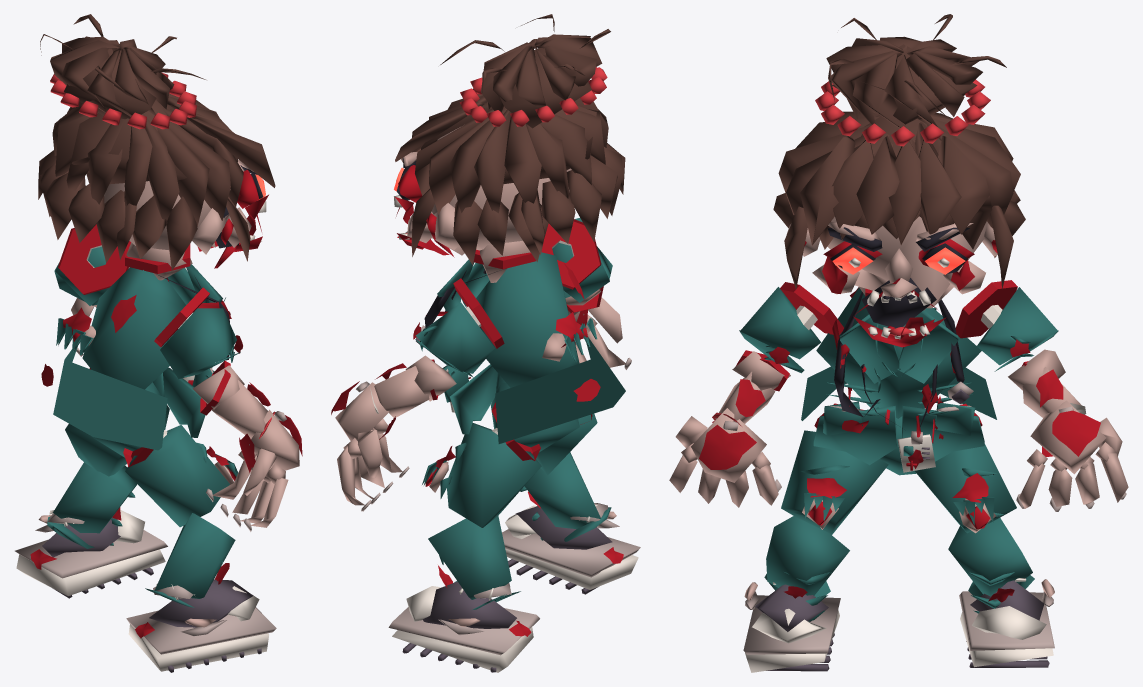
3 views of the same model, side by side, from view 1: azimuth 30°, elevation 25°; view 2: azimuth 150°, elevation 25°; view 3: azimuth 270°, elevation 25° (orthographic). The views are drawn at different scales.
Parts seen in each view (by area): view 1: head, torso, footR, footL, legR, handR, armR, shinR, shinL, stump_armL, foreArmR, legL (+5 smaller); view 2: head, torso, footL, footR, legL, handL, shinL, armL, shinR, stump_armR, foreArmL, handR (+6 smaller); view 3: head, torso, handL, footR, footL, handR, legR, legL, shinR, armR, armL, shinL (+4 smaller).
Boxes of the visible parts, x1,y1,x2,y2 form: head: (38, 14, 275, 280); torso: (41, 264, 231, 450); footR: (126, 579, 276, 672); footL: (15, 510, 167, 598); legR: (125, 425, 237, 527); handR: (206, 409, 302, 531); armR: (160, 308, 244, 409); shinR: (145, 513, 235, 607); shinL: (47, 462, 137, 548); stump_armL: (58, 224, 128, 294); foreArmR: (212, 380, 286, 438); legL: (65, 424, 126, 476); head: (394, 14, 625, 282); torso: (416, 252, 625, 443); footL: (388, 581, 539, 672); footR: (502, 503, 640, 594); legL: (422, 422, 541, 527); handL: (331, 381, 409, 511); shinL: (428, 516, 520, 609); armL: (405, 302, 494, 401); shinR: (520, 452, 611, 541); stump_armR: (541, 219, 601, 289); foreArmL: (356, 363, 429, 420); handR: (574, 297, 631, 369); head: (773, 14, 1025, 347); torso: (801, 287, 996, 472); handL: (1016, 400, 1128, 511); footR: (743, 582, 840, 672); footL: (959, 578, 1054, 667); handR: (669, 408, 781, 507); legR: (781, 430, 888, 534); legL: (915, 444, 1016, 533); shinR: (764, 516, 849, 621); armR: (732, 287, 821, 390); armL: (976, 287, 1065, 390); shinL: (948, 518, 1034, 613).
Size of the model in its own units: 0.6871 by 1.8 by 1.26.
